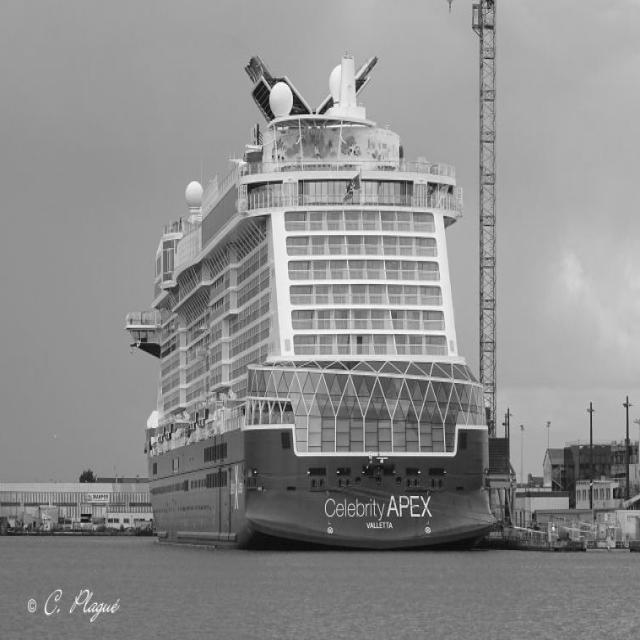cruises: (123, 43, 500, 564)
